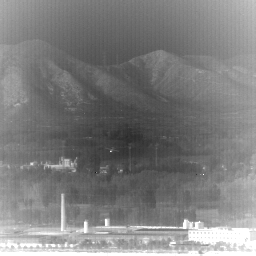aircraft: (110, 150, 112, 152)
